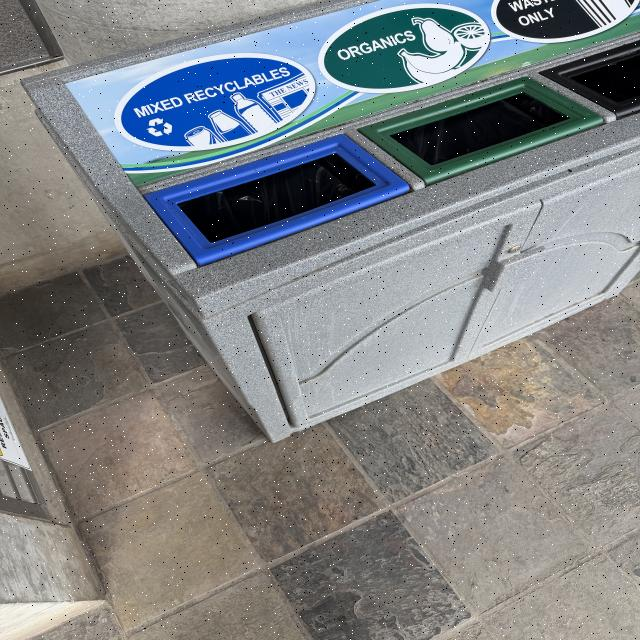Dustbin: (20, 0, 640, 447)
